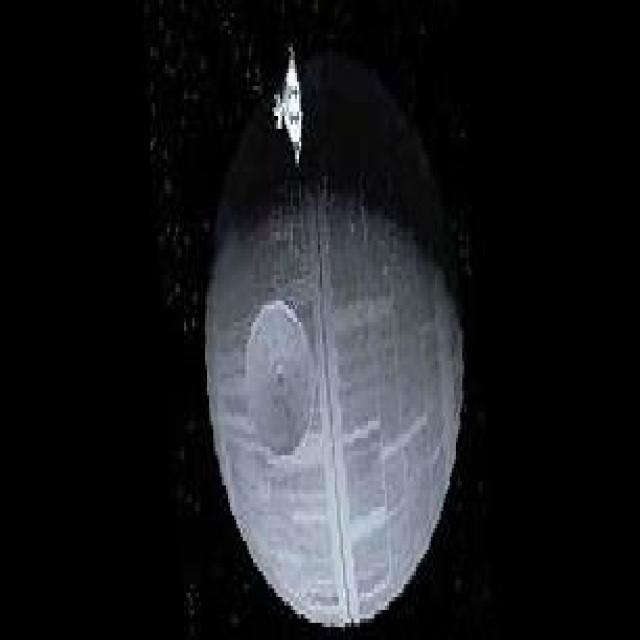Death Star: (209, 48, 482, 623)
